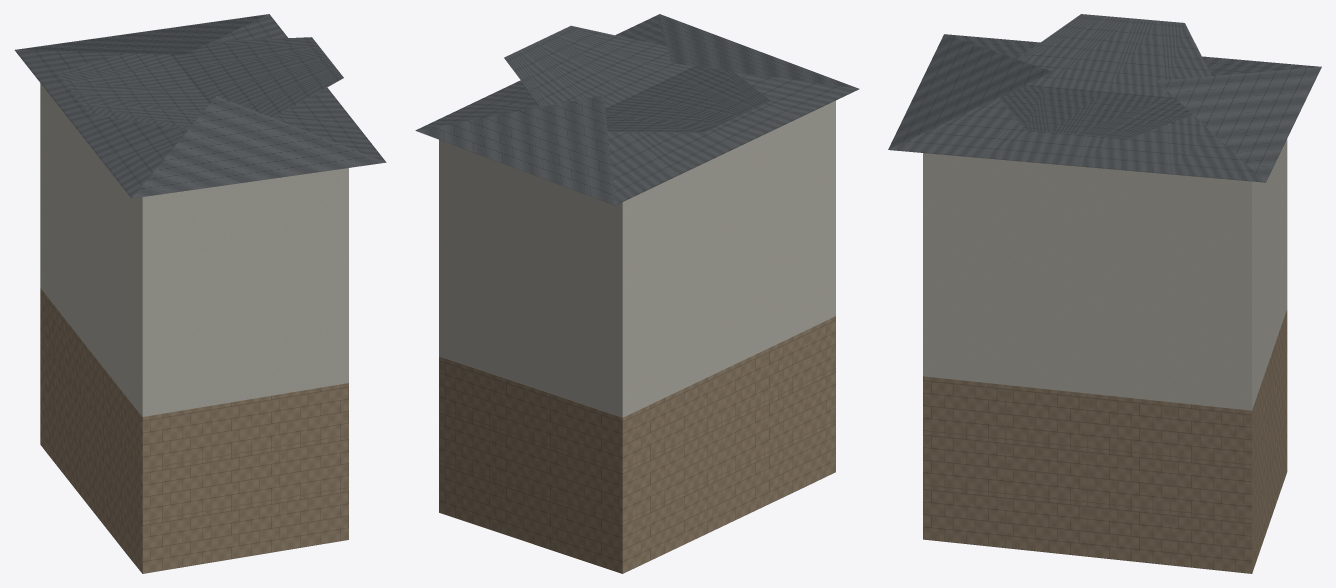
The model's file is bld_c-2_-1_543.gltf.
The picture shows the model from 3 angles, left to right: view 1: azimuth 30°, elevation 25°; view 2: azimuth 150°, elevation 25°; view 3: azimuth 270°, elevation 25°; orthographic projection. The views are drawn at different scales.
Visible parts, largest first — view 1: bld_c-2_-1_543; view 2: bld_c-2_-1_543; view 3: bld_c-2_-1_543.
Boxes of the visible parts, x1,y1,x2,y2 form: bld_c-2_-1_543: (14, 14, 386, 573); bld_c-2_-1_543: (415, 14, 859, 573); bld_c-2_-1_543: (888, 14, 1321, 573).
Bounding box in the file's own units: 9.95 × 13.5 × 12.29.
3 materials, 3 textured.
